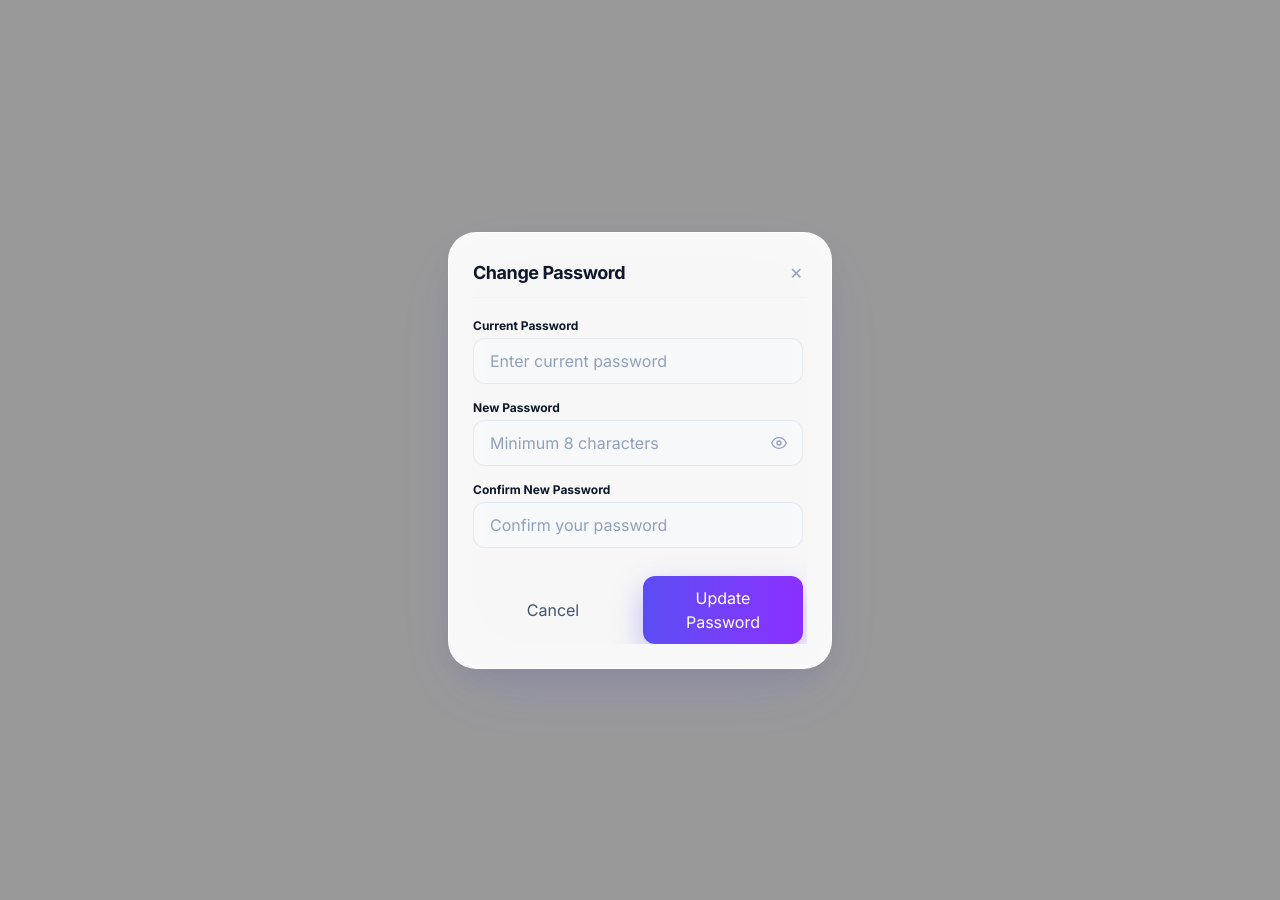
Test: ChangePasswordModal › shows validation error if new password does not meet criteria
Type "oldPassword123" into the password field labelled "Current Password" at (638, 360), box [473, 338, 803, 384]
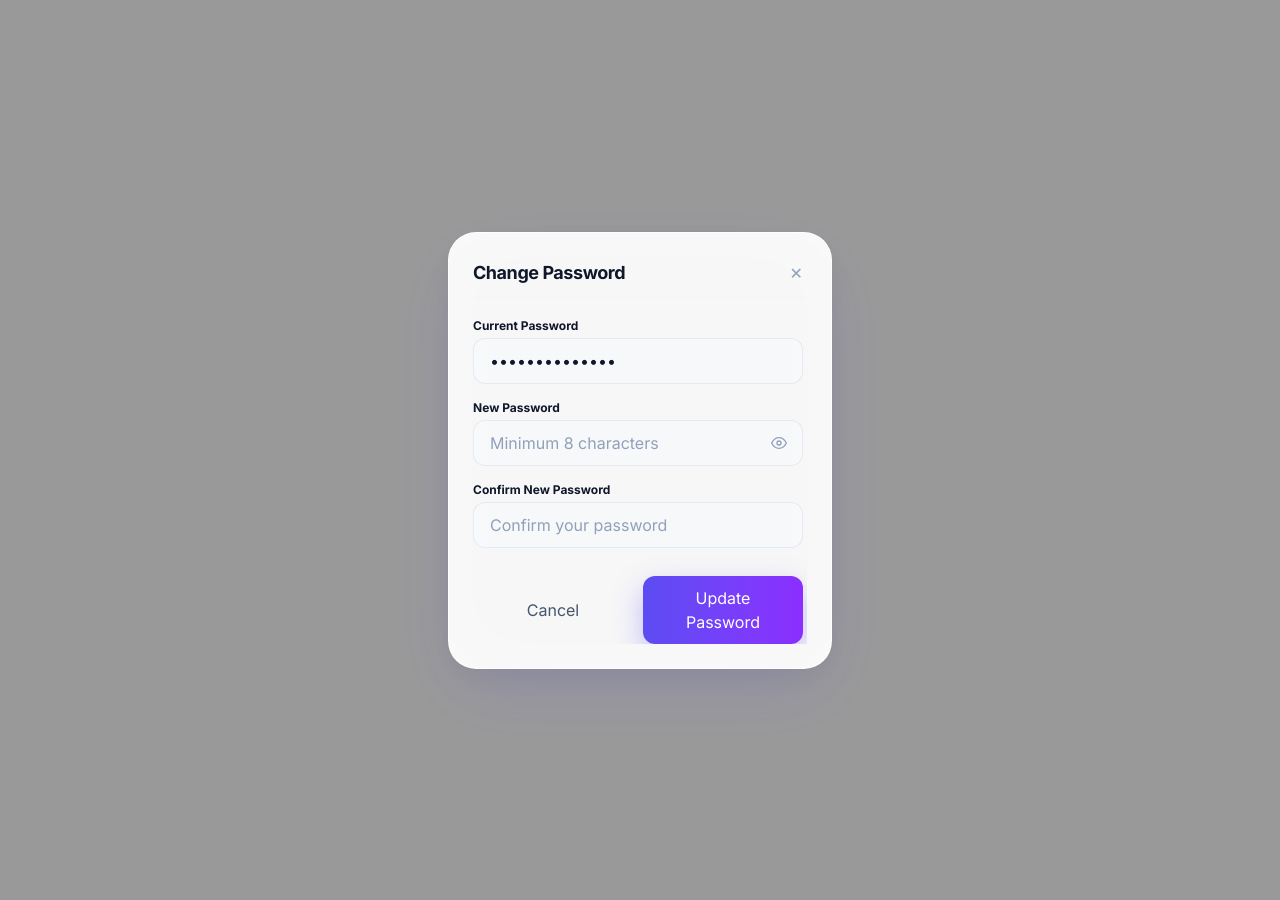
Type "short" into the password field labelled "New Password" at (638, 442), box [473, 420, 803, 466]
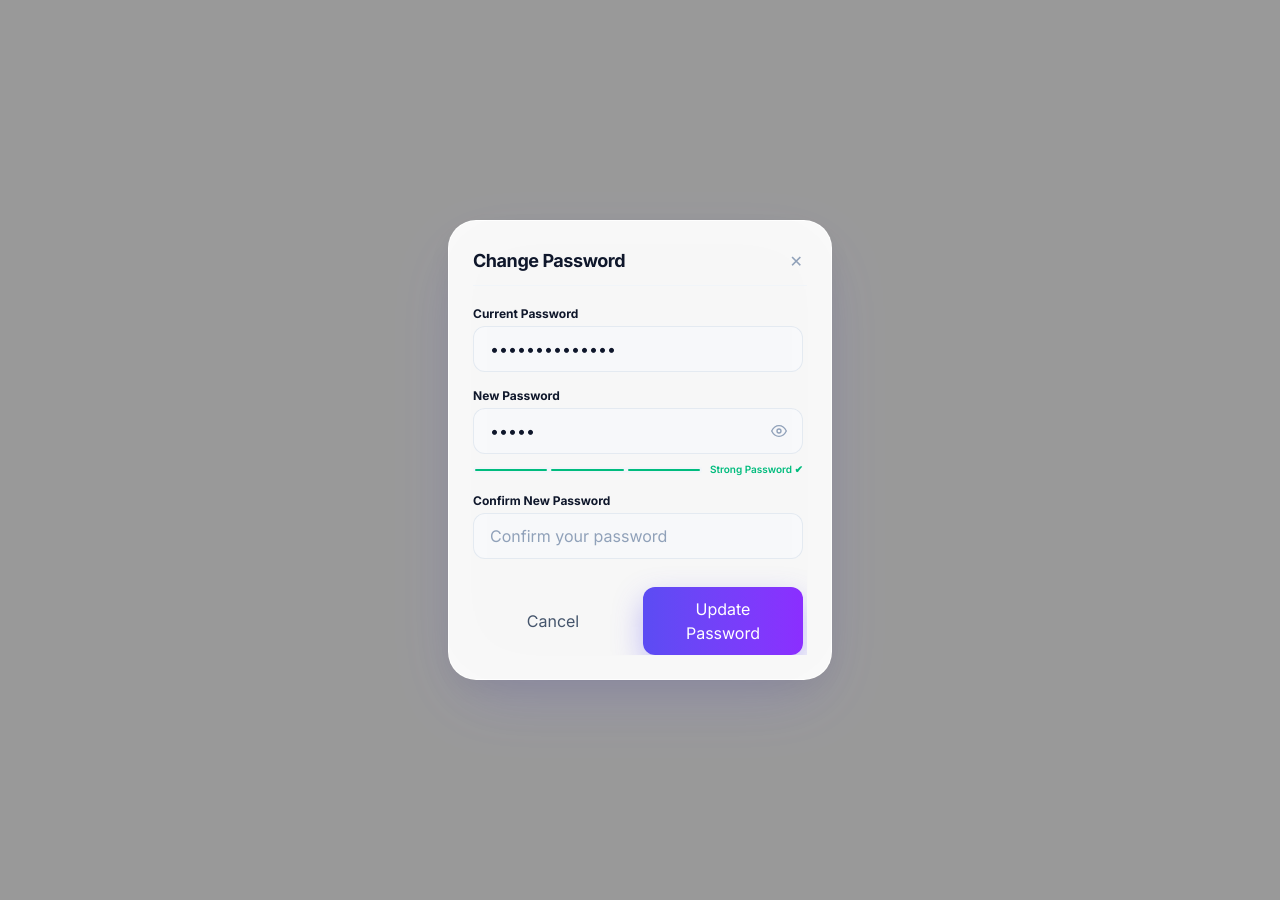
Submit the form named "Update Password", box [473, 302, 803, 655]
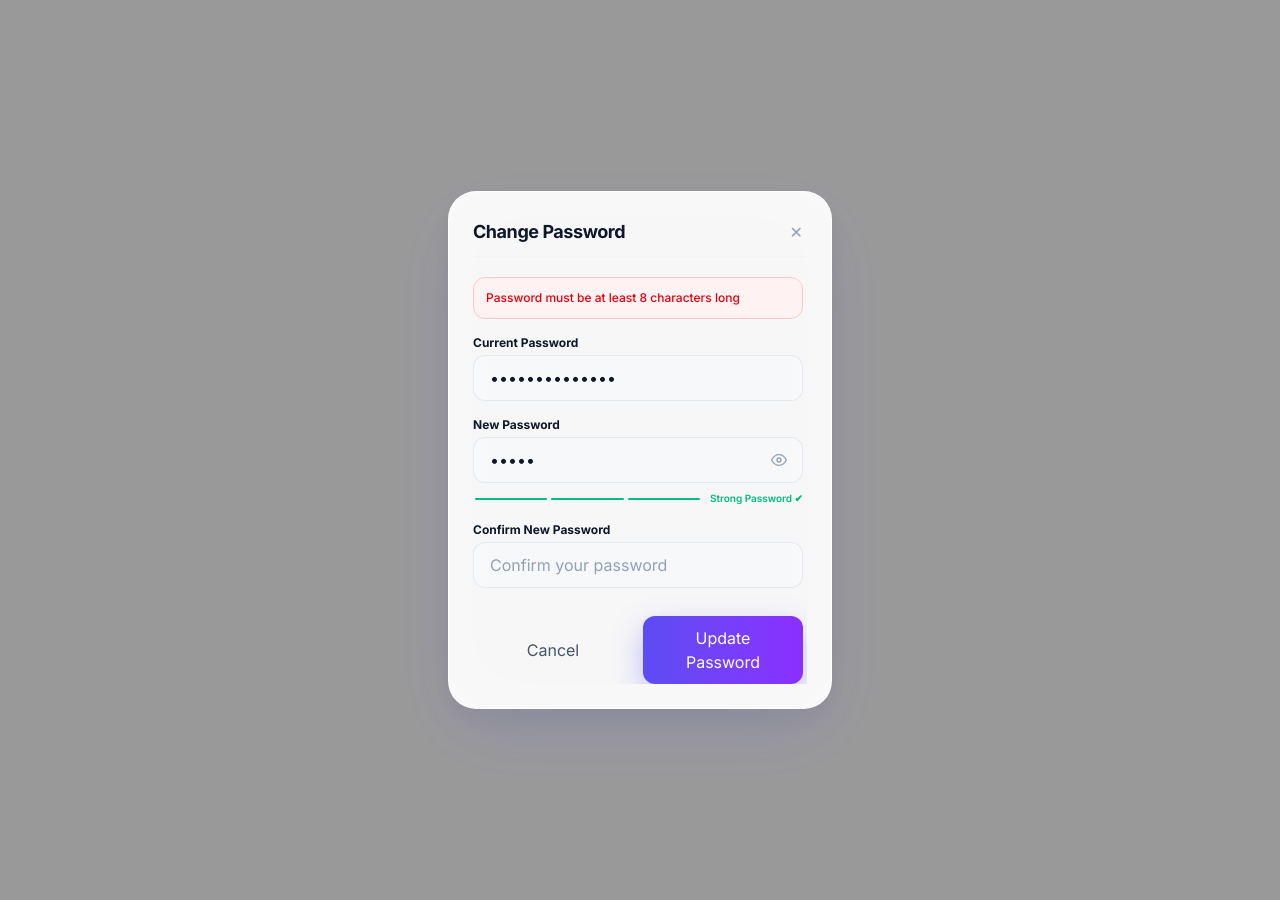
Expected: the text "Password must be at least 8 characters long" is shown, [473, 277, 803, 319]
